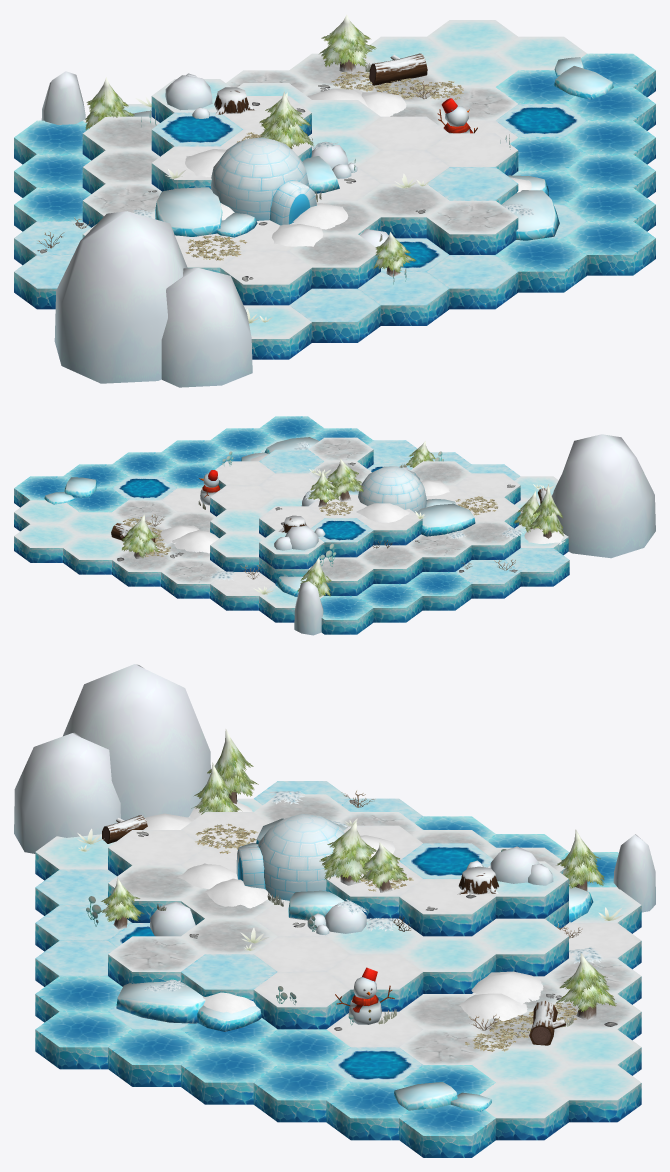
Rendered from Hexagon2_Sample_01.FBX.
3 renders of one model, top to bottom at view 1: azimuth 30°, elevation 25°; view 2: azimuth 150°, elevation 25°; view 3: azimuth 270°, elevation 25°, orthographic. The views are drawn at different scales.
Visible parts, largest first — view 1: SnowStone_01_003, SnowStone_01_004, Igloo_001, Hexagon_IceLand_03_002, Hexagon_SnowLand_01_012, Hexagon_IceLand_01_003, Hexagon_Ice_01_009, Hexagon_IceLand_01_005, Hexagon_Ice_01_008, Hexagon_IceLand_01_004, Hexagon_IceLand_04_006, Hexagon_IceLand_04_004 (+68 smaller); view 2: SnowStone_01_003, Igloo_001, Hexagon_Ice_01_012, Hexagon_Ice_01_013, Hexagon_IceLand_04_009, Hexagon_IceLand_01_007, Hexagon_IceLand_02_009, Hexagon_IceLand_01_006, Hexagon_IceLand_02_007, Hexagon_IceLand_03_003, Hexagon_IceLand_03_004, Hexagon_Ice_01_011 (+64 smaller); view 3: SnowStone_01_003, SnowStone_01_004, Igloo_001, Hexagon_SnowLand_01_002, Hexagon_SnowLand_01_005, Hexagon_Ice_01_009, Hexagon_Ice_01_010, Hexagon_Ice_01_004, Hexagon_Ice_01_003, Hexagon_Ice_01_005, Hexagon_IceLand_02_009, Hexagon_IceLand_02_003 (+72 smaller).
Part boxes in pixels (bbox=[...]): SnowStone_01_003: bbox=[54, 211, 187, 383]; SnowStone_01_004: bbox=[161, 268, 252, 387]; Igloo_001: bbox=[211, 137, 316, 225]; Hexagon_IceLand_03_002: bbox=[426, 200, 518, 254]; Hexagon_SnowLand_01_012: bbox=[220, 251, 311, 305]; Hexagon_IceLand_01_003: bbox=[427, 255, 518, 309]; Hexagon_Ice_01_009: bbox=[564, 221, 655, 275]; Hexagon_IceLand_01_005: bbox=[289, 288, 380, 342]; Hexagon_Ice_01_008: bbox=[496, 238, 587, 292]; Hexagon_IceLand_01_004: bbox=[358, 271, 449, 325]; Hexagon_IceLand_04_006: bbox=[289, 234, 380, 288]; Hexagon_IceLand_04_004: bbox=[358, 184, 449, 238]; SnowStone_01_003: bbox=[552, 434, 655, 558]; Igloo_001: bbox=[358, 466, 426, 512]; Hexagon_Ice_01_012: bbox=[357, 584, 422, 622]; Hexagon_Ice_01_013: bbox=[406, 572, 471, 610]; Hexagon_IceLand_04_009: bbox=[357, 545, 422, 583]; Hexagon_IceLand_01_007: bbox=[504, 548, 569, 586]; Hexagon_IceLand_02_009: bbox=[14, 524, 78, 562]; Hexagon_IceLand_01_006: bbox=[455, 560, 520, 598]; Hexagon_IceLand_02_007: bbox=[63, 536, 124, 574]; Hexagon_IceLand_03_003: bbox=[161, 560, 224, 598]; Hexagon_IceLand_03_004: bbox=[406, 533, 471, 571]; Hexagon_Ice_01_011: bbox=[320, 596, 373, 634]; SnowStone_01_003: bbox=[63, 664, 210, 820]; SnowStone_01_004: bbox=[14, 732, 120, 853]; Igloo_001: bbox=[236, 814, 344, 900]; Hexagon_SnowLand_01_002: bbox=[253, 972, 350, 1029]; Hexagon_SnowLand_01_005: bbox=[399, 879, 495, 936]; Hexagon_Ice_01_009: bbox=[35, 1011, 131, 1069]; Hexagon_Ice_01_010: bbox=[399, 1104, 495, 1157]; Hexagon_Ice_01_004: bbox=[253, 1065, 350, 1122]; Hexagon_Ice_01_003: bbox=[181, 1047, 277, 1104]; Hexagon_Ice_01_005: bbox=[108, 1029, 204, 1086]; Hexagon_IceLand_02_009: bbox=[545, 1065, 641, 1122]; Hexagon_IceLand_02_003: bbox=[472, 918, 568, 976].
Bounding box in the file's own units: 73.31 × 13.69 × 52.94.
